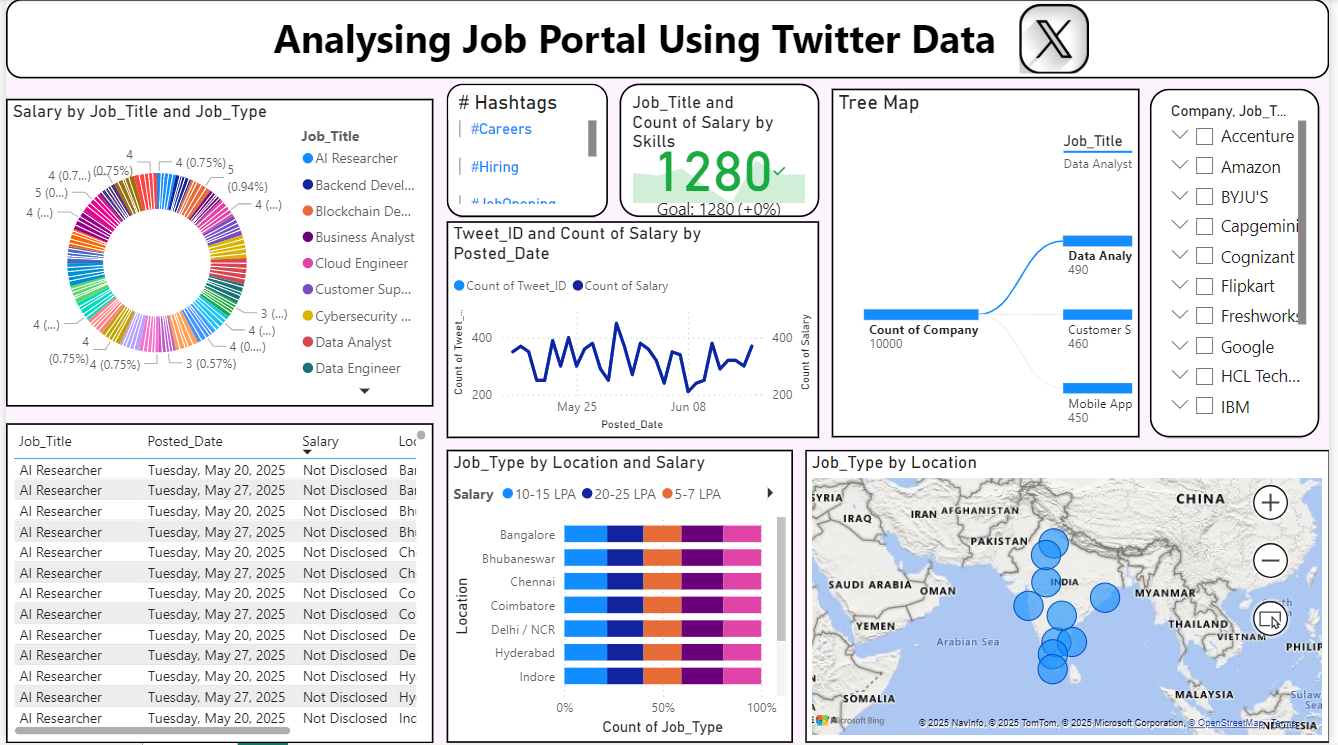

Layout of this report page (visuals, bound fields, positions):
{"tool":"powerbi","page":{"name":"Page 1","canvas":[1280,720],"ordinal":0},"visuals":[{"type":"textbox","box":[0,0,1280.3,76.8],"z":0},{"type":"image","box":[747.9,0,532.4,76.8],"z":1000},{"type":"donutChart","title":"Salary by Job_Title and Job_Type","fields":{"Category":["Sheet1.Job_Title"],"Y":["Count(Sheet1.Salary)"],"Series":["Sheet1.Job_Type"]},"box":[0,96.9,413.4,297.9],"z":2000},{"type":"lineChart","title":"Tweet_ID and Count of Salary by Posted_Date","fields":{"Y":["CountNonNull(Sheet1.Tweet_ID)"],"Y2":["CountNonNull(Sheet1.Salary)"],"Category":["Sheet1.Posted_Date"]},"box":[426.2,215.2,360.6,209.5],"z":3000},{"type":"map","title":"Job_Type by Location","fields":{"Category":["Sheet1.Location"],"Size":["CountNonNull(Sheet1.Job_Type)"]},"box":[772.6,436.2,507.4,283.7],"z":4000},{"type":"slicer","fields":{"Values":["Sheet1.Company","Sheet1.Job_Type"]},"box":[1106.3,86.9,164.1,337.8],"z":5000},{"type":"hundredPercentStackedBarChart","title":"Job_Type by Location and Salary","fields":{"Category":["Sheet1.Location"],"Y":["CountNonNull(Sheet1.Job_Type)"],"Series":["Sheet1.Salary"]},"box":[426.2,436.2,335,283.7],"z":6000},{"type":"multiRowCard","title":"# Hashtags","fields":{"Values":["Sheet1.Hashtags"]},"box":[425.8,81.9,156.4,129.1],"z":7000},{"type":"decompositionTreeVisual","title":"Tree Map","fields":{"Analyze":["CountNonNull(Sheet1.Company)"],"ExplainBy":["Sheet1.Job_Title","Sheet1.Location","Sheet1.Salary"]},"box":[798.7,86.9,298,337.8],"z":8000},{"type":"tableEx","fields":{"Values":["Sheet1.Job_Title","Sheet1.Posted_Date","Sheet1.Salary","Sheet1.Location","Sheet1.Application_Link"]},"box":[0,410.5,413.4,309.3],"z":9000},{"type":"kpi","title":" Job_Title and Count of Salary by Skills","fields":{"Indicator":["CountNonNull(Sheet1.Job_Title)"],"TrendLine":["Sheet1.Skills"],"Goal":["CountNonNull(Sheet1.Salary)"]},"box":[593.6,82,193,129.1],"z":9001}]}

Visuals, with their boxes in screenshot pixels (x1, y1, x2, y2), scaled from the page's 1280x720 canvas onto the 1338x745 screenshot:
textbox: Rect(0, 0, 1337, 79)
image: Rect(782, 0, 1337, 79)
"Salary by Job_Title and Job_Type" donutChart: Rect(0, 100, 432, 409)
"Tweet_ID and Count of Salary by Posted_Date" lineChart: Rect(446, 223, 822, 439)
"Job_Type by Location" map: Rect(808, 451, 1337, 744)
slicer - Sheet1.Company x Sheet1.Job_Type: Rect(1156, 90, 1328, 439)
"Job_Type by Location and Salary" hundredPercentStackedBarChart: Rect(446, 451, 796, 744)
"# Hashtags" multiRowCard: Rect(445, 85, 609, 218)
"Tree Map" decompositionTreeVisual: Rect(835, 90, 1146, 439)
tableEx - Sheet1.Job_Title x Sheet1.Posted_Date: Rect(0, 425, 432, 744)
" Job_Title and Count of Salary by Skills" kpi: Rect(620, 85, 822, 218)
